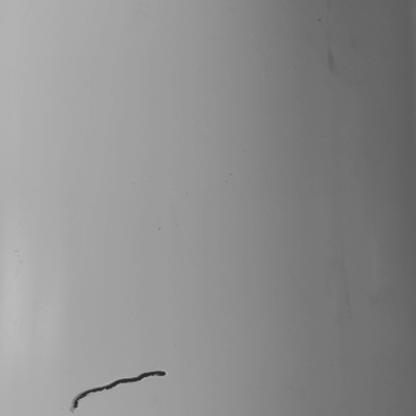fengxi: (72, 370, 166, 411)
